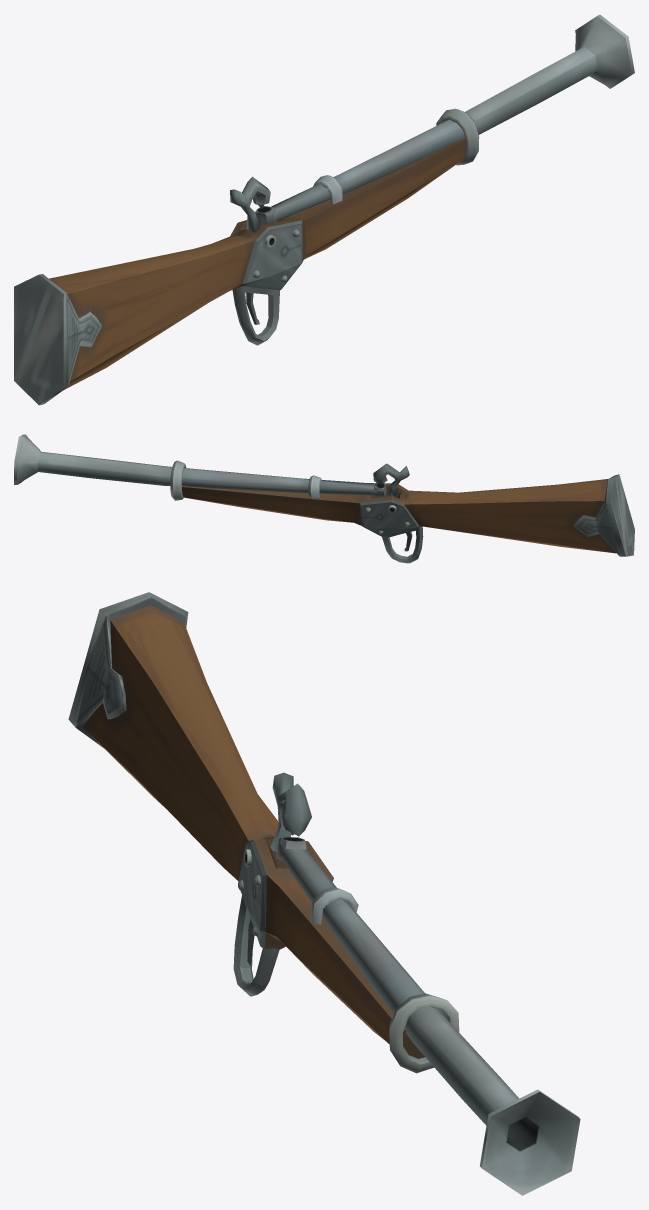
File: low_poly_gun.glb
The picture shows the model from 3 angles, top to bottom: view 1: azimuth 30°, elevation 25°; view 2: azimuth 150°, elevation 25°; view 3: azimuth 270°, elevation 25°; orthographic projection. The views are drawn at different scales.
Parts seen in each view (by area): view 1: gun, Line001; view 2: gun, Line001; view 3: gun, Line001.
Part boxes in pixels (x1,y1,x2,y2): gun: (14,14,634,405); Line001: (230,176,270,232); gun: (14,434,634,563); Line001: (373,463,409,497); gun: (68,592,580,1195); Line001: (270,772,311,851).
Size of the model in its own units: 82.58 by 16.84 by 35.1.
1 material, 1 textured.
